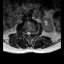CCS_normal: (28, 29, 30, 38)
LFS_normal: (31, 29, 33, 36)
LLS_normal: (30, 29, 31, 37)
RFS_stenosis: (24, 29, 26, 37)
RLS_normal: (26, 29, 28, 36)
